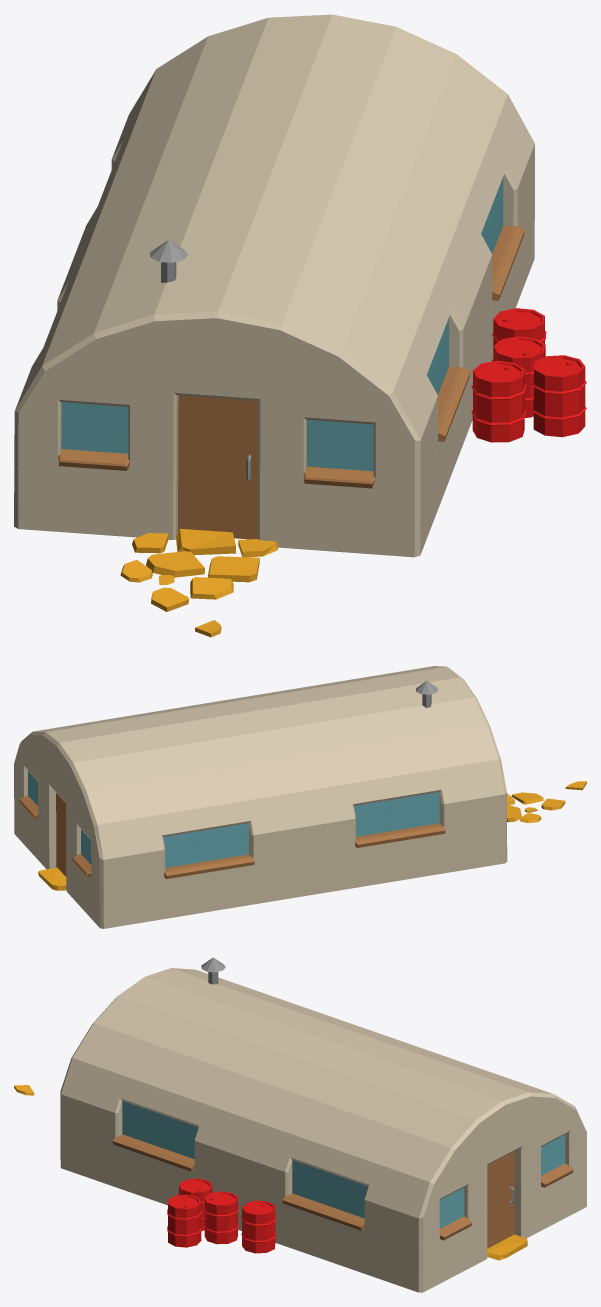
The model's file is bulding2.fbx.
3 renders of one model, top to bottom at view 1: azimuth 30°, elevation 25°; view 2: azimuth 150°, elevation 25°; view 3: azimuth 270°, elevation 25°, orthographic. The views are drawn at different scales.
Parts seen in each view (by area): view 1: Barracks; view 2: Barracks; view 3: Barracks.
Boxes of the visible parts, box(x1,y1,x2,y2) form: Barracks: box(14, 14, 586, 637); Barracks: box(14, 666, 586, 928); Barracks: box(14, 957, 586, 1292).
Bounding box in the file's own units: 844 × 319 × 971.
